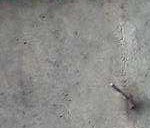Exposed reinforcement: (110, 83, 132, 101)
